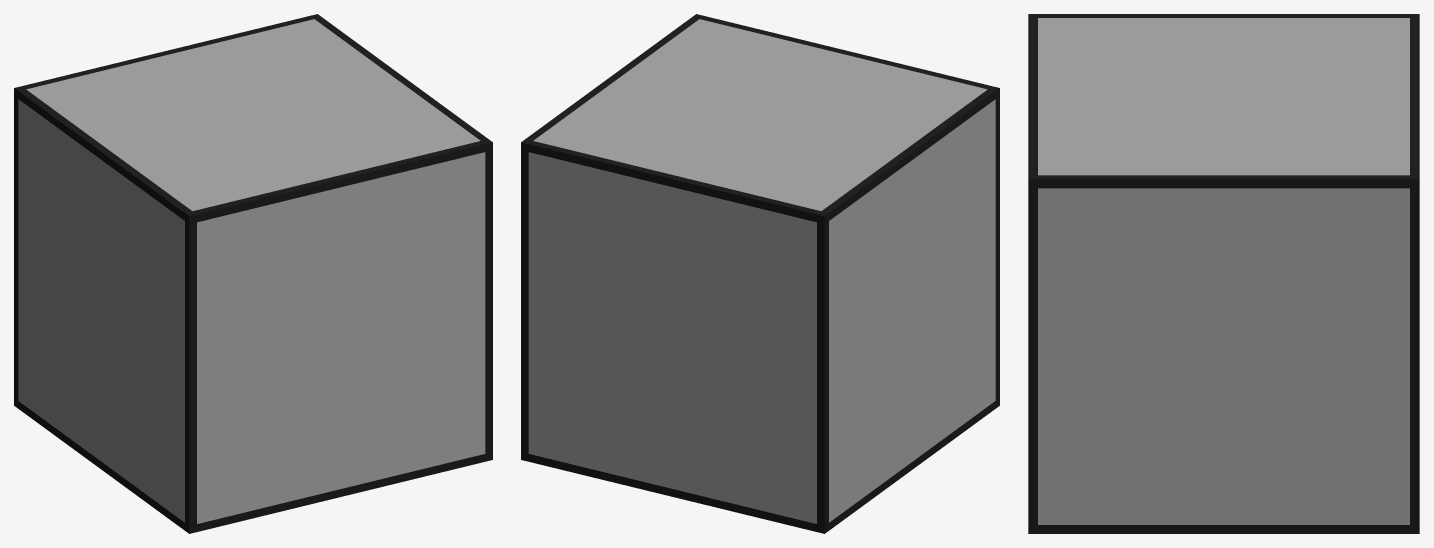
Rendered from wallblock.obj.
3 renders of one model, left to right at view 1: azimuth 30°, elevation 25°; view 2: azimuth 150°, elevation 25°; view 3: azimuth 270°, elevation 25°, orthographic. The views are drawn at different scales.
Visible parts, largest first — view 1: wallblock; view 2: wallblock; view 3: wallblock.
Boxes of the visible parts, left/top/right/bottom form: wallblock: left=14, top=14, right=492, bottom=533; wallblock: left=521, top=14, right=999, bottom=533; wallblock: left=1028, top=14, right=1419, bottom=533.
Bounding box in the file's own units: 40 × 40 × 40.
1 material, 1 textured.
